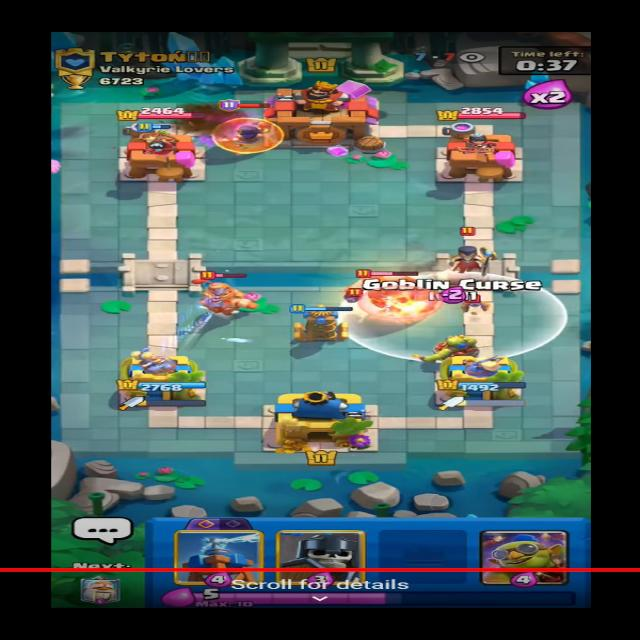bats: (460, 292, 508, 310), (337, 289, 381, 307)
evo-wizard: (211, 102, 285, 154)
giant: (344, 269, 448, 316)
night-witch: (446, 226, 495, 279)
prince: (186, 263, 246, 324)
